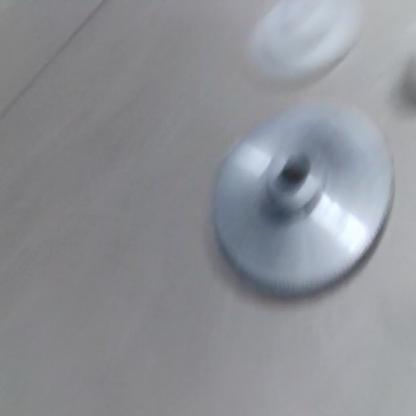FOD: (213, 107, 401, 299), (245, 0, 379, 84)
